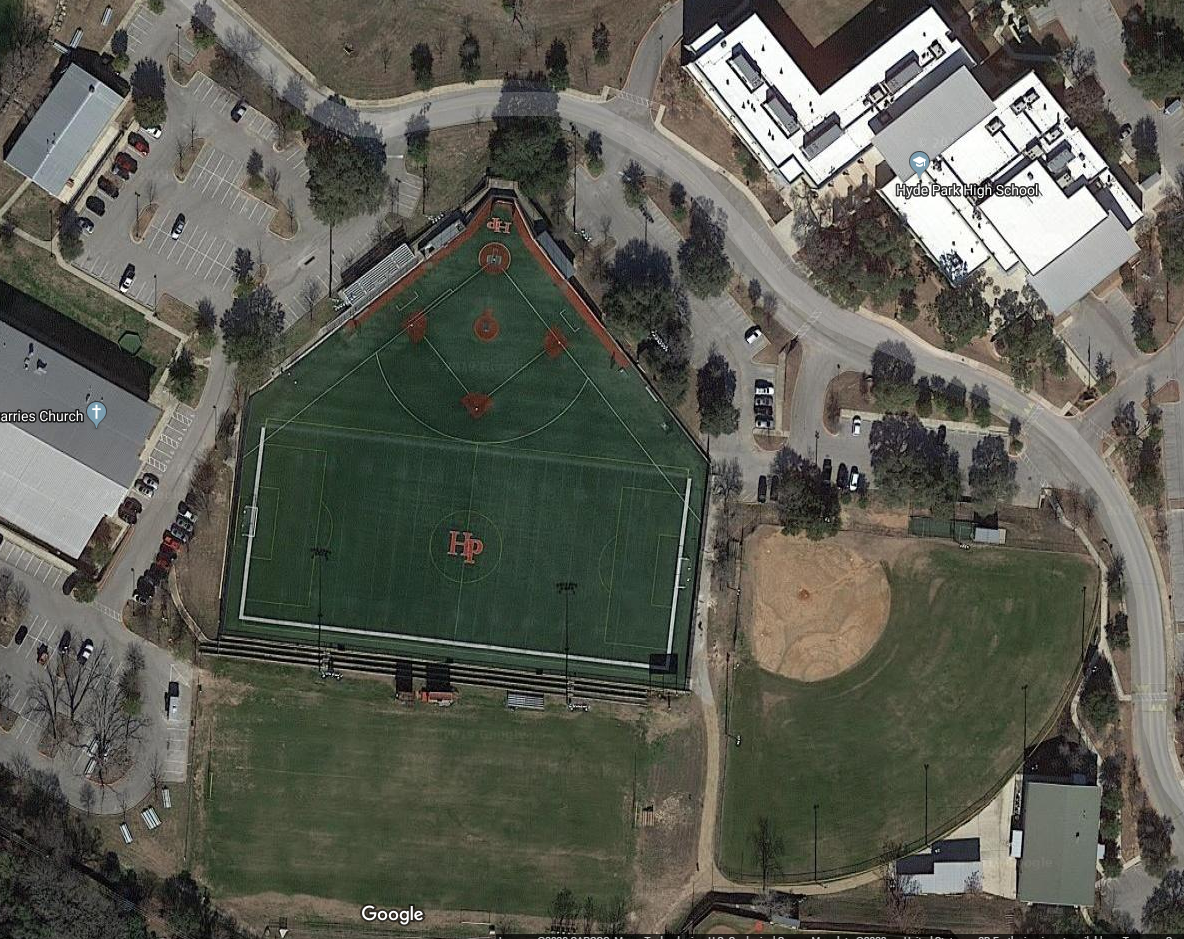baseball: (737, 508, 1142, 927)
football: (247, 430, 721, 674)
soccer: (189, 685, 634, 916)
